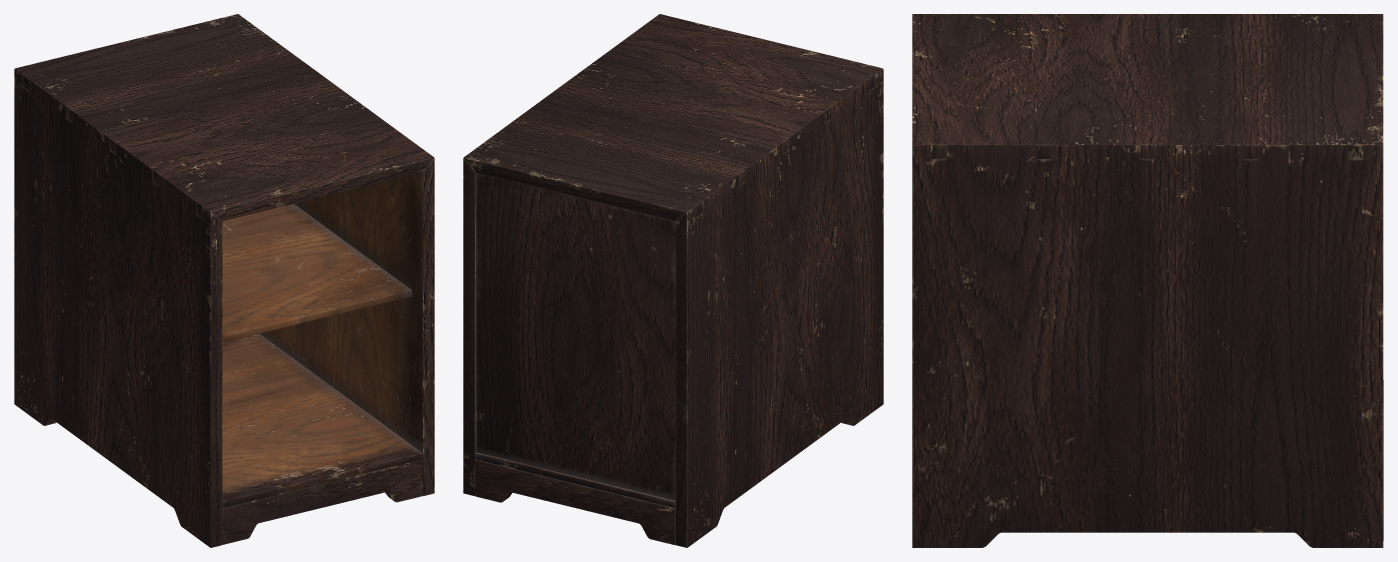
Rendered from SM_BookCase305.fbx.
3 renders of one model, left to right at view 1: azimuth 30°, elevation 25°; view 2: azimuth 150°, elevation 25°; view 3: azimuth 270°, elevation 25°, orthographic. The views are drawn at different scales.
Parts seen in each view (by area): view 1: SM_BookCase305; view 2: SM_BookCase305; view 3: SM_BookCase305.
Part boxes in pixels (box(x1,y1,x2,y2)): SM_BookCase305: box(14, 14, 434, 547); SM_BookCase305: box(463, 14, 883, 547); SM_BookCase305: box(912, 14, 1383, 547).
Size of the model in its own units: 24.9 by 35.7 by 37.83.
1 material, 1 textured.
